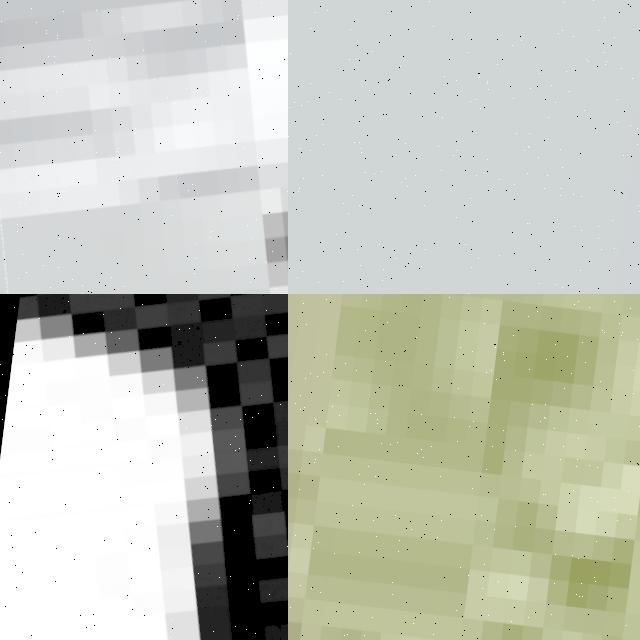0: (0, 0, 288, 294)
drone: (0, 294, 288, 640)
